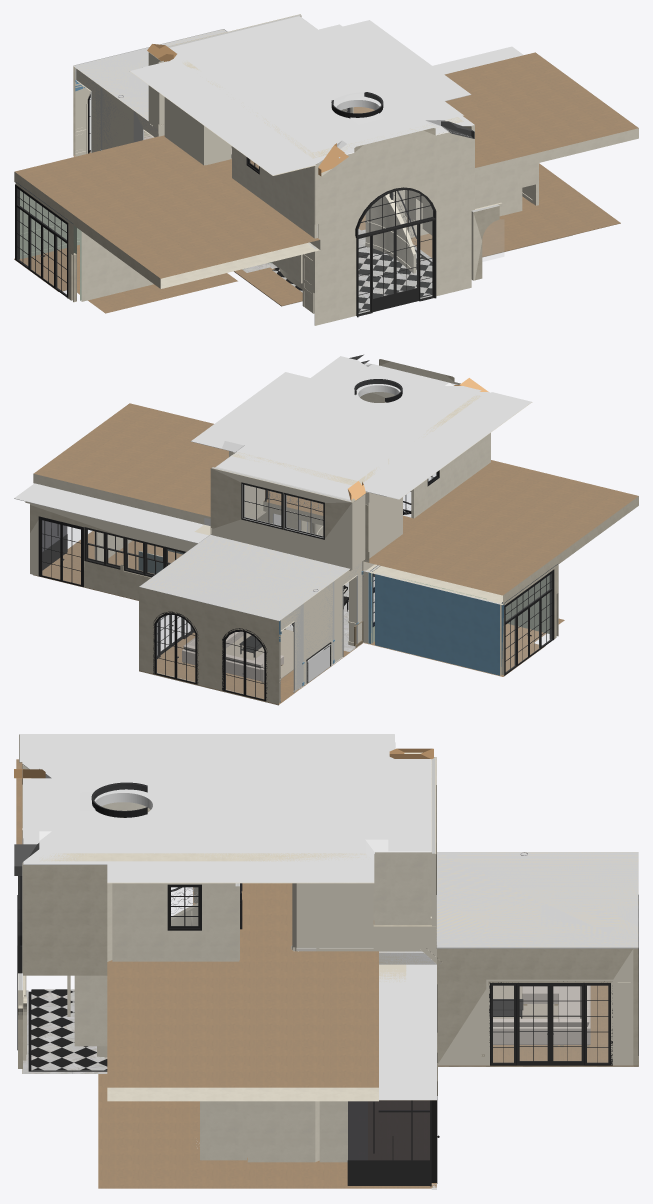
File: family-room-7415ebff0bf5.glb
3 views of the same model, one above another, from view 1: azimuth 30°, elevation 25°; view 2: azimuth 150°, elevation 25°; view 3: azimuth 270°, elevation 25° (orthographic). The views are drawn at different scales.
Parts seen in each view (by area): view 1: family-room-look-2575515a05775d9e, family-room-look-e8793759323e04f0, family-room-look-9d91b47435c6fb33, family-room-look-34525a54e63b733b, family-room-look-3b0077416469e01b, family-room-look-698abdfdc6fb970d, family-room-look-d5a4a1b5d3594c04, family-room-look-08d72923bcfd3529, family-room-look-5f56640b372ec5ce, family-room-look-746250f96522f643, family-room-4a969f5cc1ae3dfe, family-room-look-c4ac463b6a960119 (+21 smaller); view 2: family-room-look-2575515a05775d9e, family-room-look-e8793759323e04f0, family-room-look-9d91b47435c6fb33, family-room-4a969f5cc1ae3dfe, family-room-look-b19b106fc304963c, family-room-look-245f595ae2832e16, family-room-969b861f9850351e, family-room-look-bfb9fa537cd11d1d, family-room-look-9a0e9ee9b2a451d7, family-room-9d80b152e3f2ea10, family-room-look-08d72923bcfd3529, family-room-look-5f56640b372ec5ce (+22 smaller); view 3: family-room-look-2575515a05775d9e, family-room-look-e8793759323e04f0, family-room-look-9d91b47435c6fb33, family-room-4a969f5cc1ae3dfe, family-room-look-3b0077416469e01b, family-room-e706aa16b4547c37, family-room-3d5fbc3a2a5f9c05, family-room-look-62353aa10fc57f23, family-room-50d54560d247b537, family-room-look-c51ecd664a3b22a3, family-room-look-9a0e9ee9b2a451d7, family-room-look-5f56640b372ec5ce (+24 smaller).
Boxes of the visible parts, x1=… form: family-room-look-2575515a05775d9e: x1=14, y1=52, x2=638, y2=288; family-room-look-e8793759323e04f0: x1=180, y1=23, x2=463, y2=158; family-room-look-9d91b47435c6fb33: x1=130, y1=16, x2=474, y2=175; family-room-look-34525a54e63b733b: x1=314, y1=126, x2=471, y2=244; family-room-look-3b0077416469e01b: x1=14, y1=163, x2=620, y2=306; family-room-look-698abdfdc6fb970d: x1=356, y1=218, x2=436, y2=317; family-room-look-d5a4a1b5d3594c04: x1=314, y1=208, x2=471, y2=325; family-room-look-08d72923bcfd3529: x1=15, y1=184, x2=68, y2=298; family-room-look-5f56640b372ec5ce: x1=254, y1=81, x2=404, y2=139; family-room-look-746250f96522f643: x1=232, y1=146, x2=317, y2=238; family-room-4a969f5cc1ae3dfe: x1=73, y1=29, x2=226, y2=120; family-room-look-c4ac463b6a960119: x1=272, y1=247, x2=432, y2=311; family-room-look-2575515a05775d9e: x1=33, y1=403, x2=638, y2=604; family-room-look-e8793759323e04f0: x1=222, y1=356, x2=481, y2=485; family-room-look-9d91b47435c6fb33: x1=191, y1=362, x2=532, y2=500; family-room-4a969f5cc1ae3dfe: x1=139, y1=534, x2=349, y2=621; family-room-look-b19b106fc304963c: x1=375, y1=573, x2=501, y2=675; family-room-look-245f595ae2832e16: x1=210, y1=467, x2=352, y2=568; family-room-969b861f9850351e: x1=139, y1=587, x2=280, y2=704; family-room-look-bfb9fa537cd11d1d: x1=30, y1=502, x2=197, y2=600; family-room-look-9a0e9ee9b2a451d7: x1=14, y1=483, x2=208, y2=543; family-room-9d80b152e3f2ea10: x1=280, y1=562, x2=362, y2=690; family-room-look-08d72923bcfd3529: x1=504, y1=569, x2=554, y2=675; family-room-look-5f56640b372ec5ce: x1=324, y1=377, x2=464, y2=430; family-room-look-2575515a05775d9e: x1=16, y1=759, x2=378, y2=1101; family-room-look-e8793759323e04f0: x1=39, y1=756, x2=388, y2=861; family-room-look-9d91b47435c6fb33: x1=19, y1=734, x2=431, y2=883; family-room-4a969f5cc1ae3dfe: x1=436, y1=852, x2=638, y2=948; family-room-look-3b0077416469e01b: x1=98, y1=920, x2=436, y2=1188; family-room-e706aa16b4547c37: x1=437, y1=948, x2=633, y2=1065; family-room-3d5fbc3a2a5f9c05: x1=489, y1=981, x2=612, y2=1065; family-room-look-62353aa10fc57f23: x1=23, y1=865, x2=112, y2=975; family-room-50d54560d247b537: x1=436, y1=852, x2=638, y2=948; family-room-look-c51ecd664a3b22a3: x1=112, y1=883, x2=239, y2=961; family-room-look-9a0e9ee9b2a451d7: x1=379, y1=964, x2=436, y2=1100; family-room-look-5f56640b372ec5ce: x1=83, y1=756, x2=196, y2=825.
Size of the model in its own units: 21.07 by 7.01 by 16.88.
59 materials, 12 textured.
